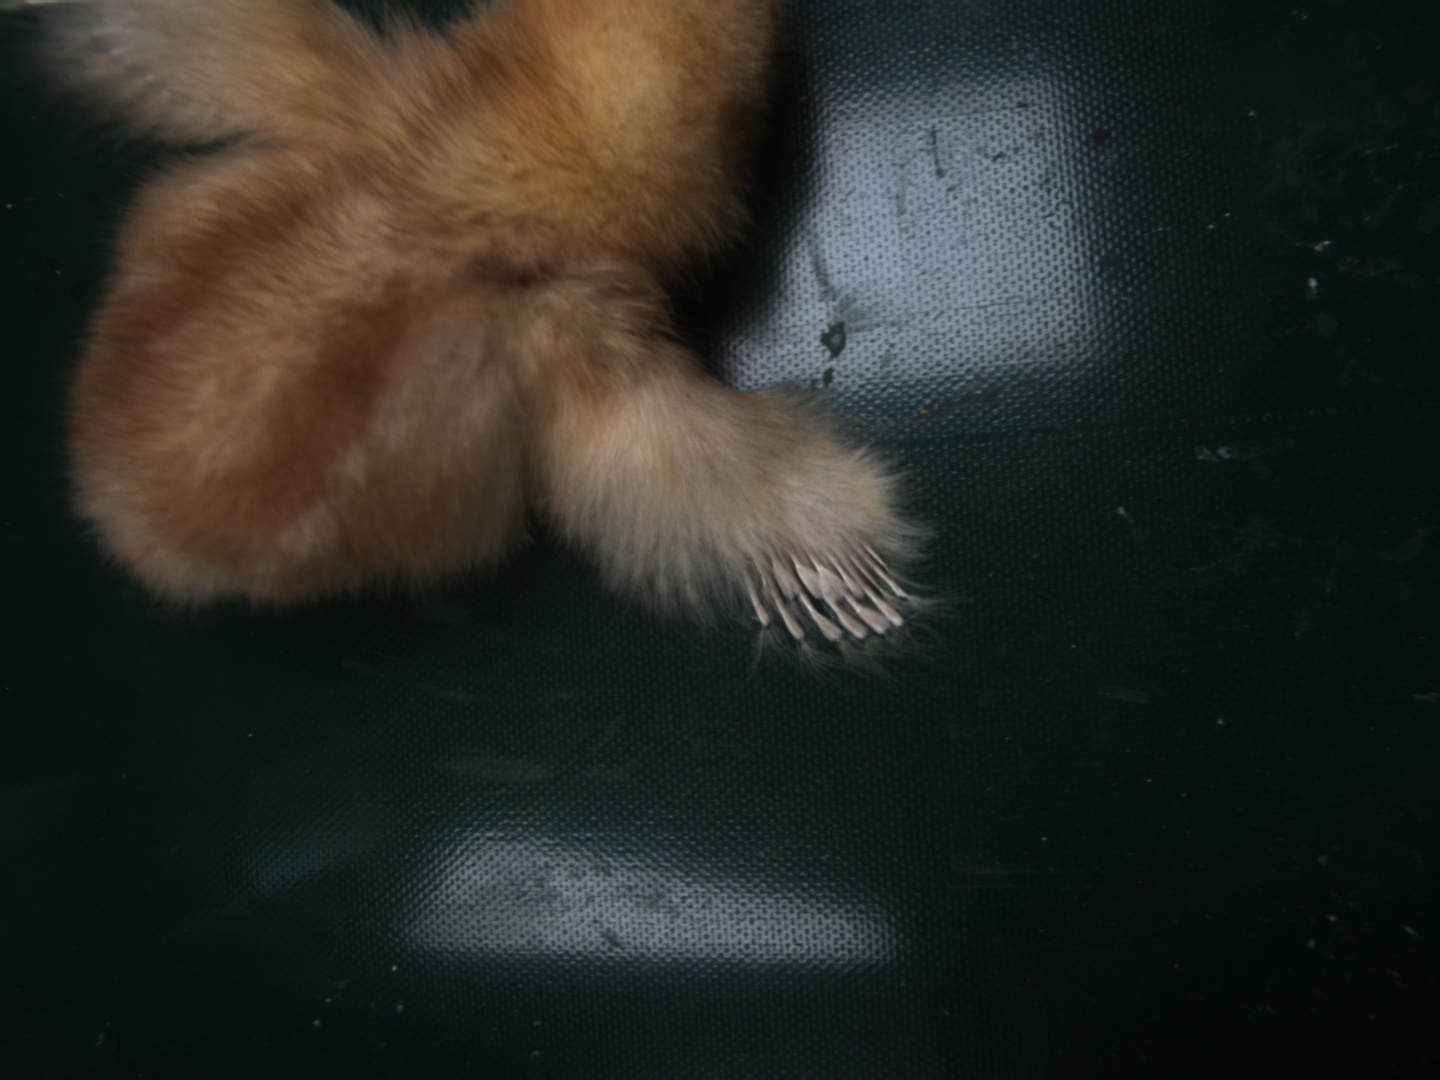female: (742, 530, 912, 649)
